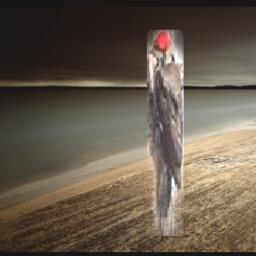Woodpecker: (147, 31, 184, 237)
